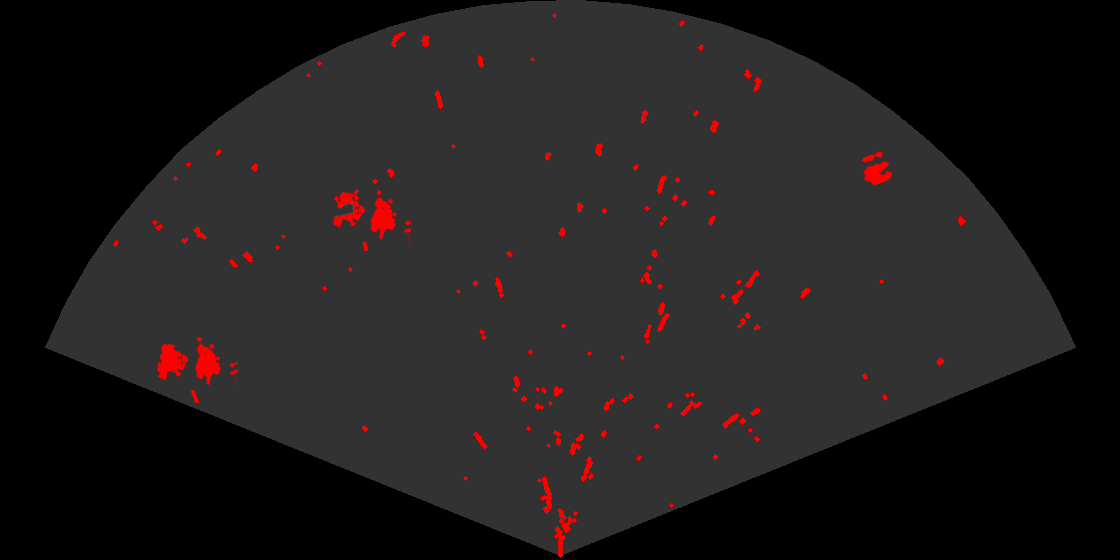ball: (860, 150, 894, 187)
cage: (155, 336, 238, 403), (331, 189, 411, 251)
